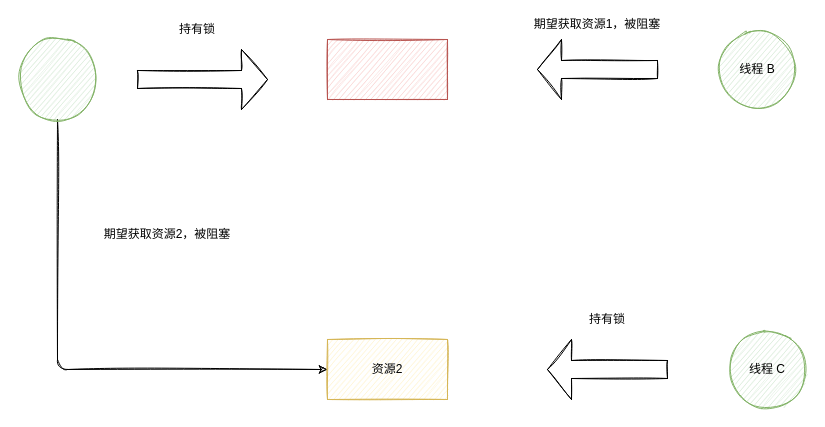
The diagram is 825 pixels wide and 427 high, and some of its shapes have lost their labels. The shapes that lost their labels are listed below. From the top down, each one's centre as x and y in pixels, then its label:
(x=57, y=79): 线程 A
(x=387, y=69): 资源1
